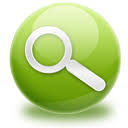searchIcon: (24, 25, 107, 94)
